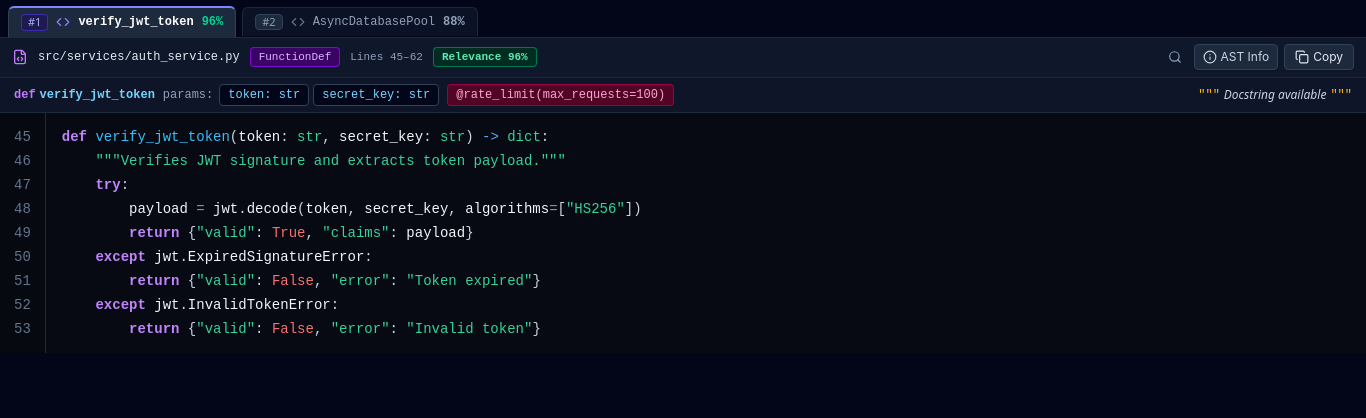
Test: Adversarial Challenge 2: Python Highlighting, Line Numbers & DOM Accessibility › 4. Tab Switching & AST State Consistency › properly switches active tab styling and updates displayed AST code and line numbers
Expected: the text with test id "chunk-file-path" reads "src/services/auth_service.py", [38,50,240,64]
Expected: the text with test id "chunk-node-type" reads "FunctionDef", [259,51,331,63]
# CLICK TAB 2
Click the button "#2 AsyncDatabasePool 88%". click: x=360, y=21
box: [242,6,478,36]
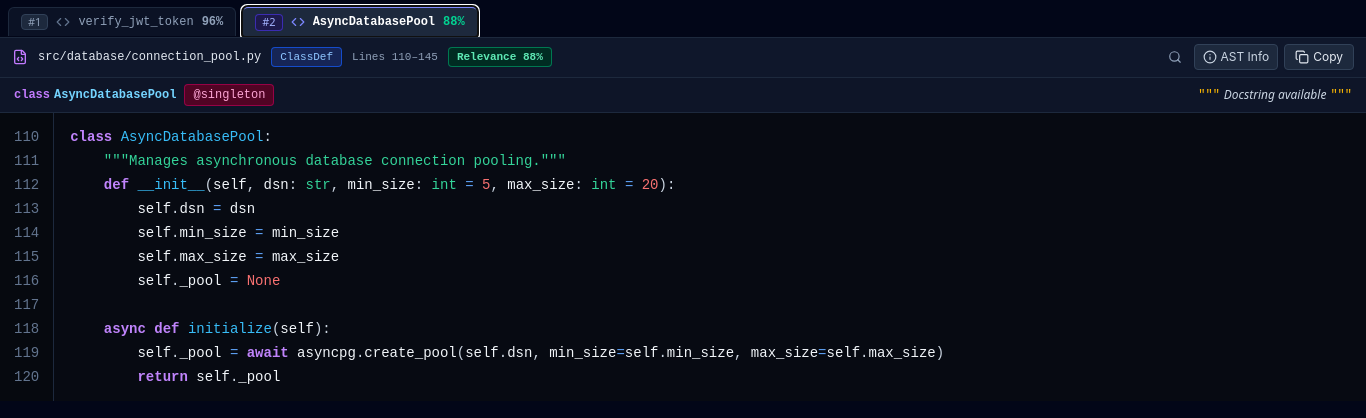
Expected: the text with test id "chunk-file-path" reads "src/database/connection_pool.py", [38,50,261,64]
Expected: the text with test id "chunk-node-type" reads "ClassDef", [280,51,333,63]
Expected: the element with test id "code-display" shows "class AsyncDatabasePool"
# CLICK TAB 1 AGAIN
Click the button "#1 verify_jwt_token 96%". click: x=122, y=21
box: [8,6,236,36]
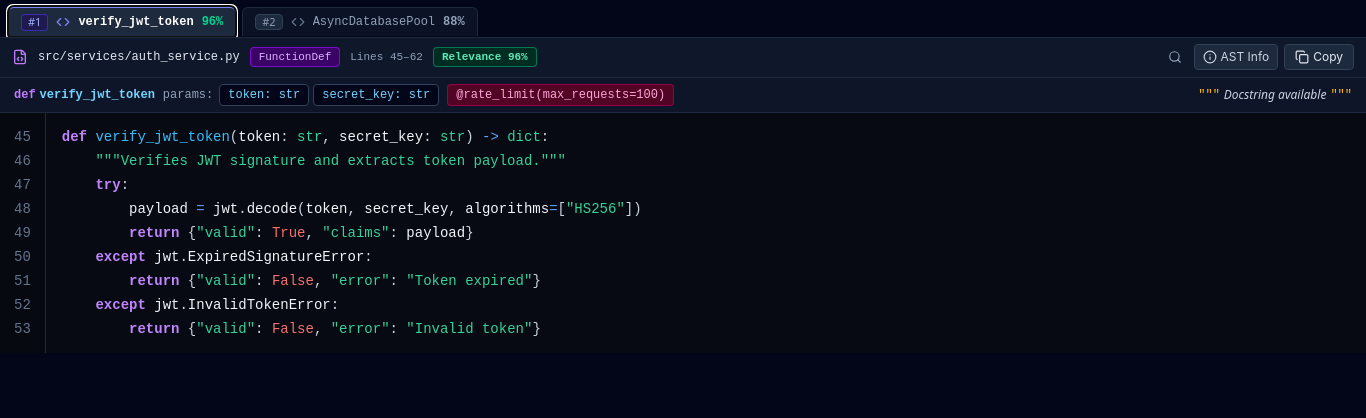
Expected: the text with test id "chunk-file-path" reads "src/services/auth_service.py", [38,50,240,64]
Expected: the element with test id "code-display" shows "def verify_jwt_token", [0,113,1365,353]
Expected: the text with test id "line-number" reads "45", [14,129,31,145]
